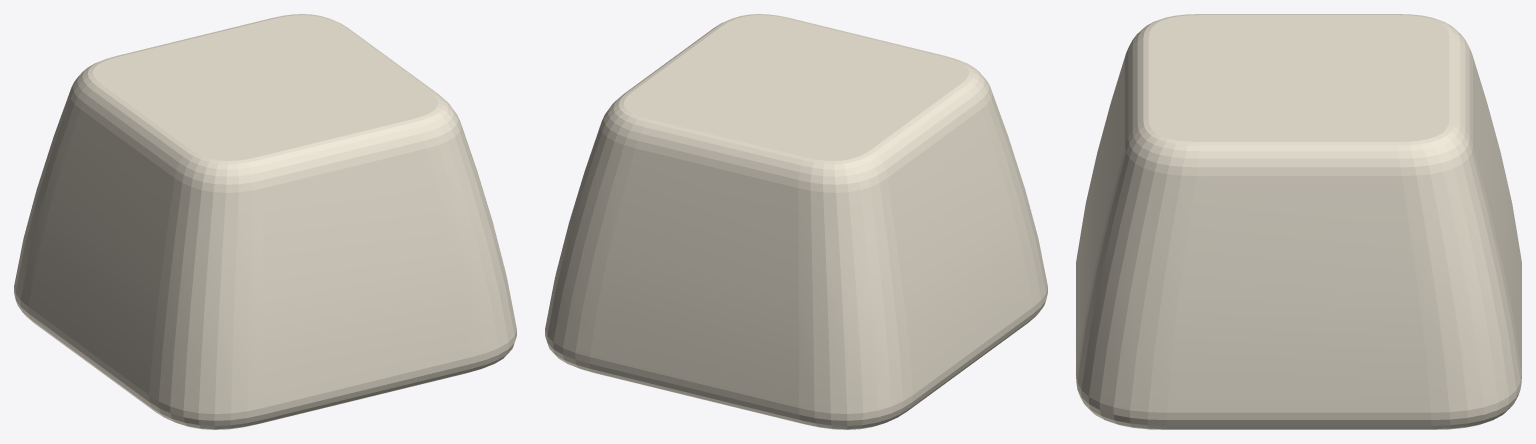
Rendered from keycap.glb.
3 renders of one model, left to right at view 1: azimuth 30°, elevation 25°; view 2: azimuth 150°, elevation 25°; view 3: azimuth 270°, elevation 25°, orthographic. The views are drawn at different scales.
Parts seen in each view (by area): view 1: Keycap; view 2: Keycap; view 3: Keycap.
Boxes of the visible parts, <box> form: Keycap: <box>14,14,516,429</box>; Keycap: <box>545,14,1047,429</box>; Keycap: <box>1076,14,1521,429</box>.
Size of the model in its own units: 1.01 by 0.6601 by 1.01.
